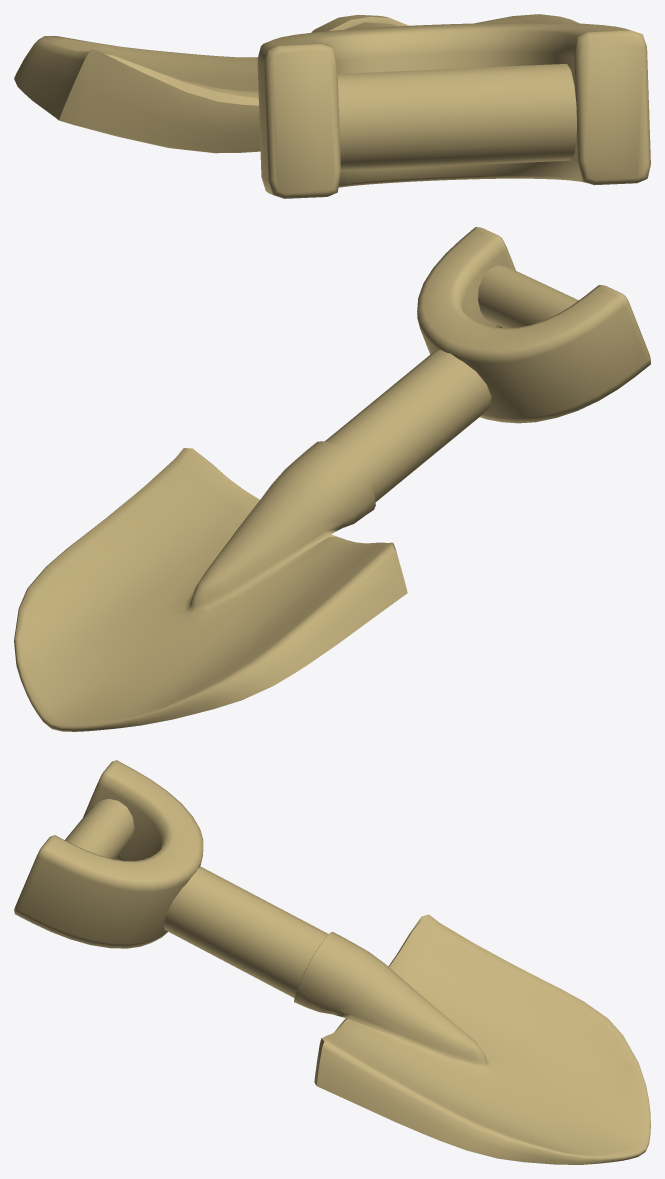
File: Shovel Shadow.fbx
3 renders of one model, top to bottom at view 1: azimuth 30°, elevation 25°; view 2: azimuth 150°, elevation 25°; view 3: azimuth 270°, elevation 25°, orthographic. The views are drawn at different scales.
Parts seen in each view (by area): view 1: Shovel Shadow; view 2: Shovel Shadow; view 3: Shovel Shadow.
Part boxes in pixels (x1=…): Shovel Shadow: x1=14, y1=14, x2=650, y2=198; Shovel Shadow: x1=14, y1=227, x2=650, y2=731; Shovel Shadow: x1=14, y1=760, x2=650, y2=1164.
Size of the model in its own units: 9.79 by 6.79 by 14.65.
